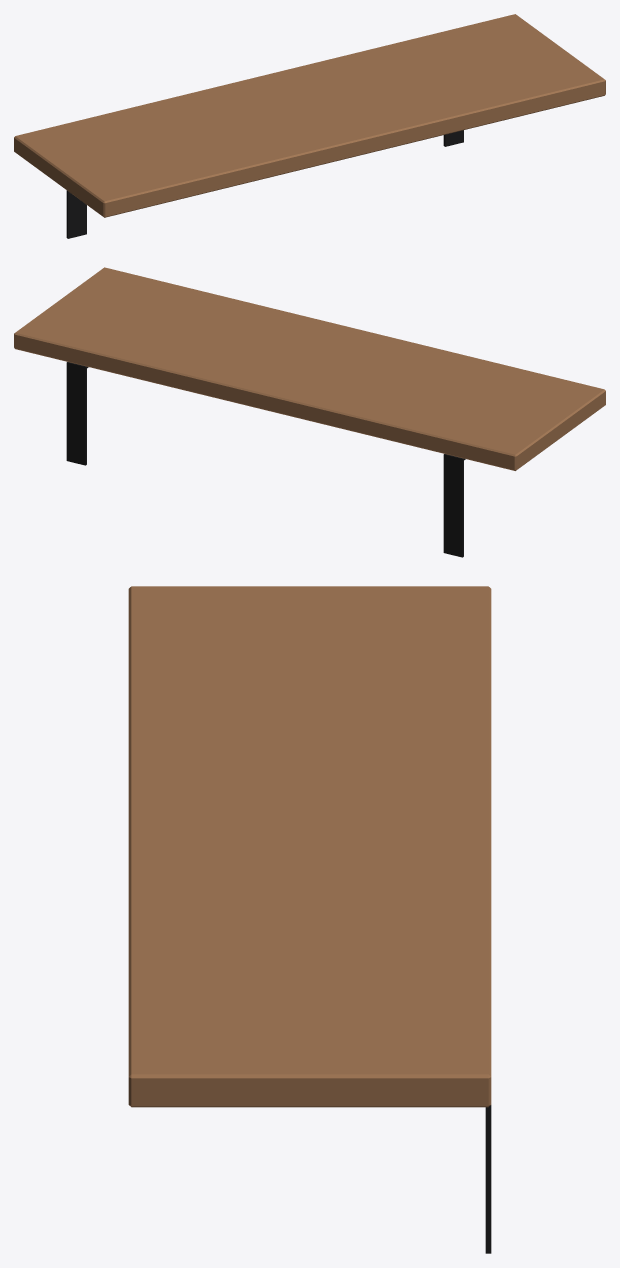
The model's file is 44_polka_scienna_80.glb.
3 renders of one model, top to bottom at view 1: azimuth 30°, elevation 25°; view 2: azimuth 150°, elevation 25°; view 3: azimuth 270°, elevation 25°, orthographic. The views are drawn at different scales.
Parts seen in each view (by area): view 1: Polka, Polka_wsporniki; view 2: Polka, Polka_wsporniki; view 3: Polka, Polka_wsporniki.
Part boxes in pixels (bbox=[...]): Polka: bbox=[14, 14, 605, 217]; Polka_wsporniki: bbox=[66, 130, 463, 238]; Polka: bbox=[14, 267, 605, 470]; Polka_wsporniki: bbox=[66, 362, 465, 557]; Polka: bbox=[128, 586, 491, 1107]; Polka_wsporniki: bbox=[485, 1105, 491, 1253].
Bounding box in the file's own units: 0.8 × 0.175 × 0.25.
